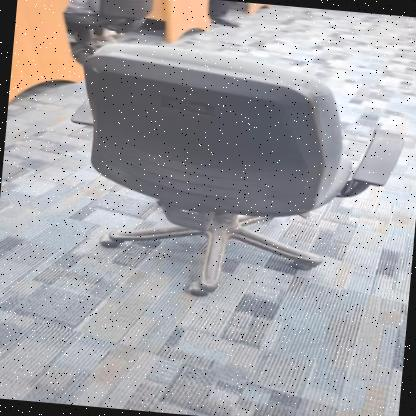chair: (44, 21, 416, 312)
